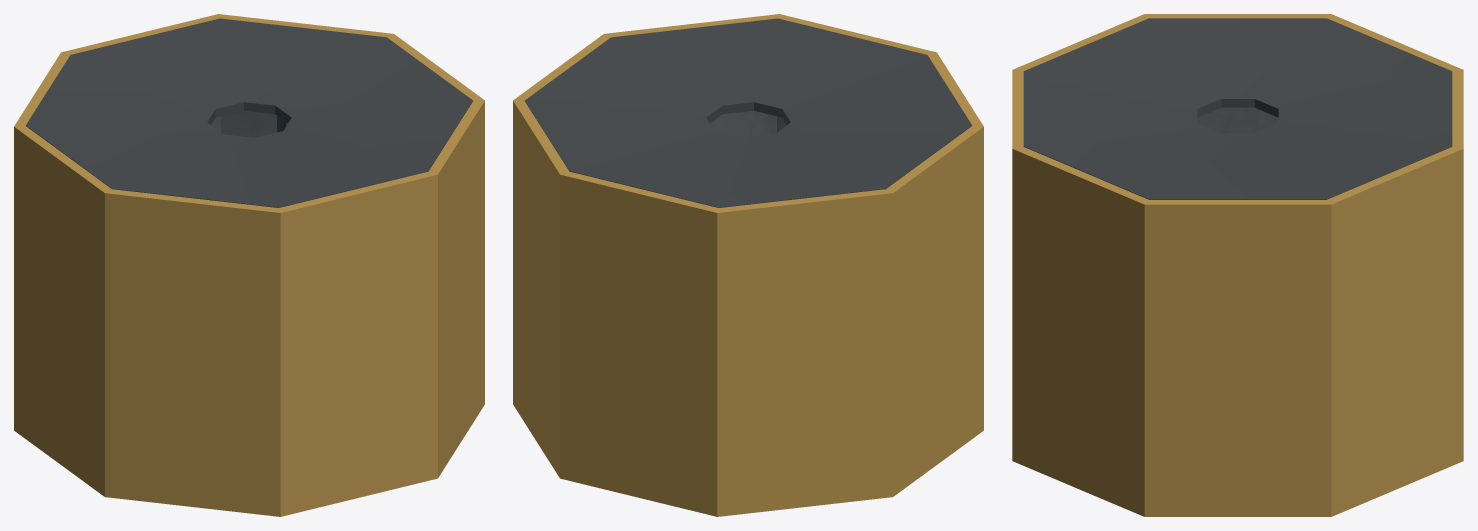
File: arena.fbx
3 renders of one model, left to right at view 1: azimuth 30°, elevation 25°; view 2: azimuth 150°, elevation 25°; view 3: azimuth 270°, elevation 25°, orthographic. The views are drawn at different scales.
Visible parts, largest first — view 1: pCylinder11, pCylinder21, pCylinder20, pCylinder22, pCylinder19, pCylinder17, pCylinder15, pCylinder23, pCylinder18; view 2: pCylinder11, pCylinder23, pCylinder15, pCylinder22, pCylinder17, pCylinder19, pCylinder20, pCylinder21, pCylinder18; view 3: pCylinder11, pCylinder18, pCylinder17, pCylinder19, pCylinder22, pCylinder15, pCylinder20, pCylinder21, pCylinder23.
Boxes of the visible parts, box(x1,y1,x2,y2) form: pCylinder11: box(25, 18, 473, 207); pCylinder21: box(105, 189, 280, 516); pCylinder20: box(279, 171, 437, 516); pCylinder22: box(14, 126, 111, 496); pCylinder19: box(429, 100, 484, 477); pCylinder17: box(218, 14, 393, 137); pCylinder15: box(61, 14, 220, 132); pCylinder23: box(14, 52, 69, 126); pCylinder18: box(387, 34, 484, 100); pCylinder11: box(524, 18, 972, 207); pCylinder23: box(717, 189, 892, 516); pCylinder15: box(560, 171, 718, 516); pCylinder22: box(886, 126, 983, 496); pCylinder17: box(513, 100, 568, 477); pCylinder19: box(604, 14, 779, 137); pCylinder20: box(777, 14, 936, 132); pCylinder21: box(928, 52, 983, 126); pCylinder18: box(513, 34, 610, 100); pCylinder11: box(1023, 18, 1452, 199); pCylinder18: box(1144, 200, 1331, 516); pCylinder17: box(1327, 147, 1463, 516); pCylinder19: box(1012, 147, 1148, 516); pCylinder22: box(1145, 14, 1330, 133); pCylinder15: box(1452, 70, 1463, 148); pCylinder20: box(1012, 70, 1023, 148); pCylinder21: box(1012, 14, 1148, 71); pCylinder23: box(1327, 14, 1463, 71).
Bounding box in the file's own units: 22.88 × 17.51 × 22.88.
